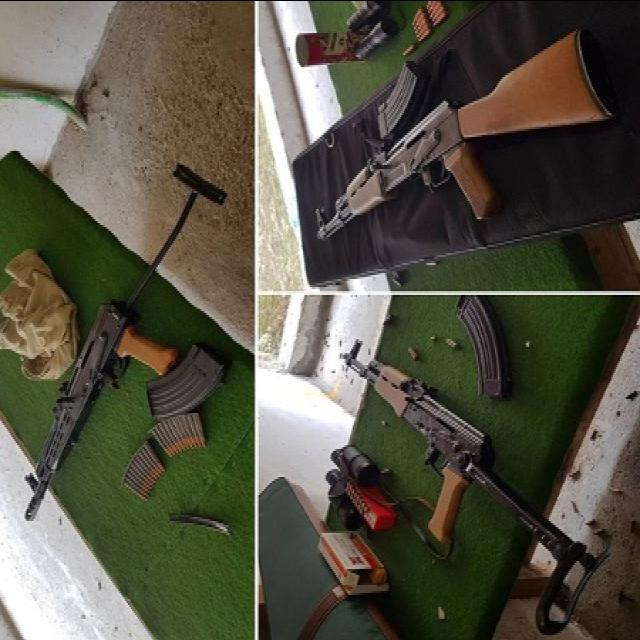rifle: (327, 329, 595, 637), (12, 159, 230, 525), (308, 21, 624, 253)
